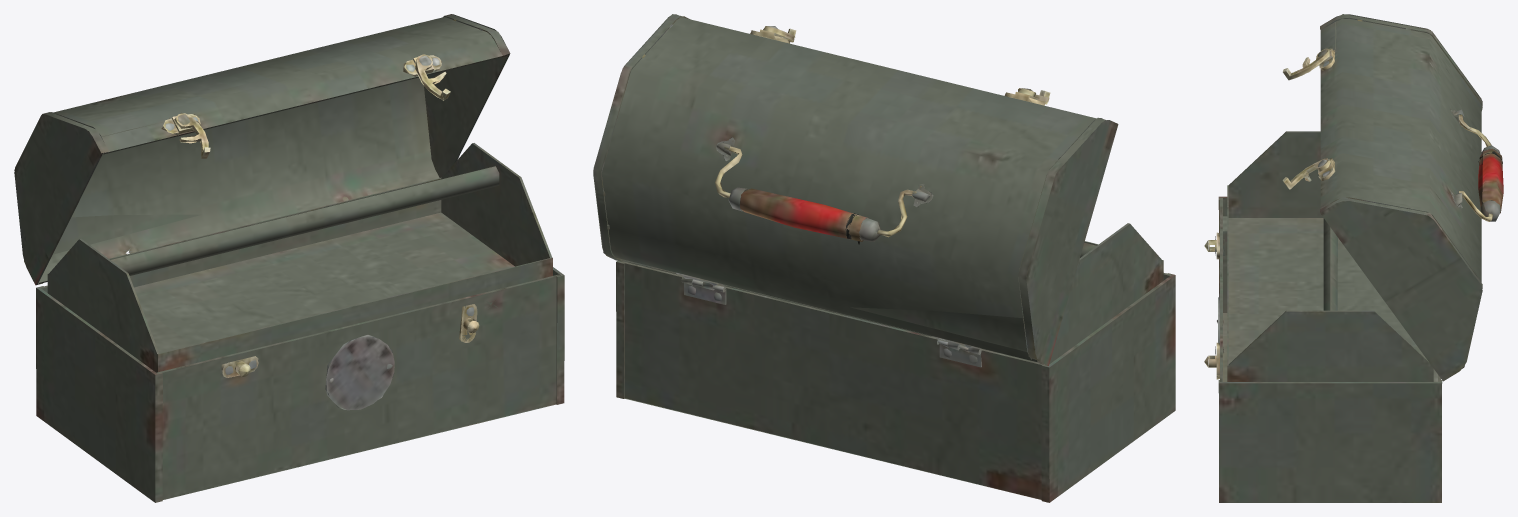
File: isl_toolbox.glb
3 renders of one model, left to right at view 1: azimuth 30°, elevation 25°; view 2: azimuth 150°, elevation 25°; view 3: azimuth 270°, elevation 25°, orthographic. The views are drawn at different scales.
Visible parts, largest first — view 1: metal_toolbox; view 2: metal_toolbox; view 3: metal_toolbox.
Part boxes in pixels (x1,y1,x2,y2): metal_toolbox: (14,14,564,502); metal_toolbox: (593,14,1175,502); metal_toolbox: (1204,14,1503,502).
Size of the model in its own units: 0.4 by 0.3051 by 0.2713.
Materials: 1 (1 with a texture image).
